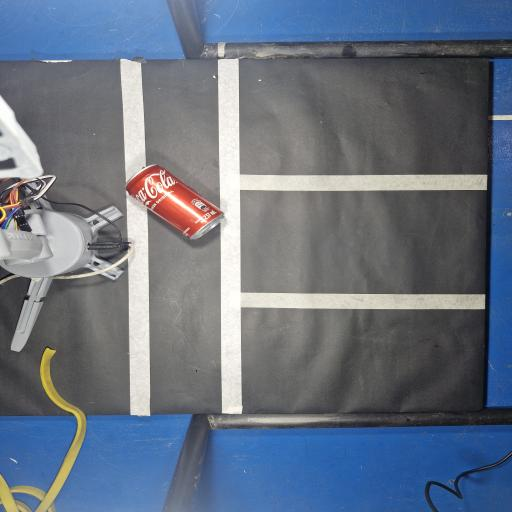lata: (125, 165, 224, 239)
